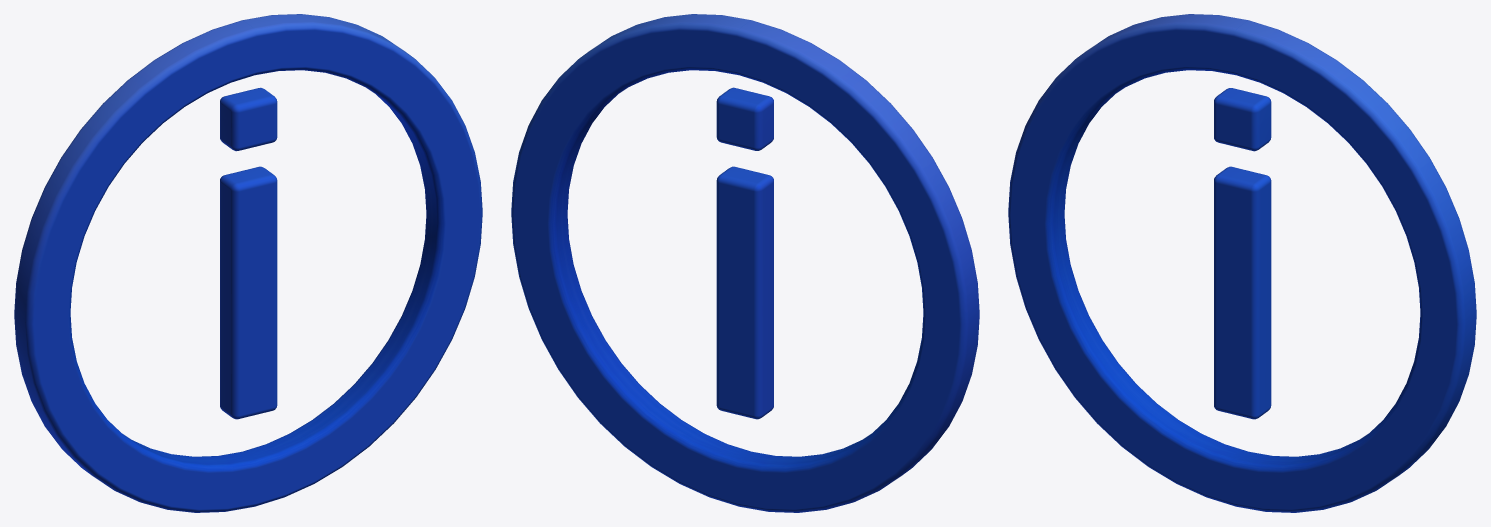
The model's file is info.glb.
3 views of the same model, side by side, from view 1: azimuth 30°, elevation 25°; view 2: azimuth 150°, elevation 25°; view 3: azimuth 330°, elevation 25° (orthographic).
Parts seen in each view (by area): view 1: node_id38; view 2: node_id38; view 3: node_id38.
Boxes of the visible parts, bbox=[...] form: node_id38: bbox=[14, 14, 482, 512]; node_id38: bbox=[511, 14, 979, 512]; node_id38: bbox=[1008, 14, 1476, 512].
Size of the model in its own units: 0.0374 by 0.0374 by 0.00248.
1 material, 1 textured.
